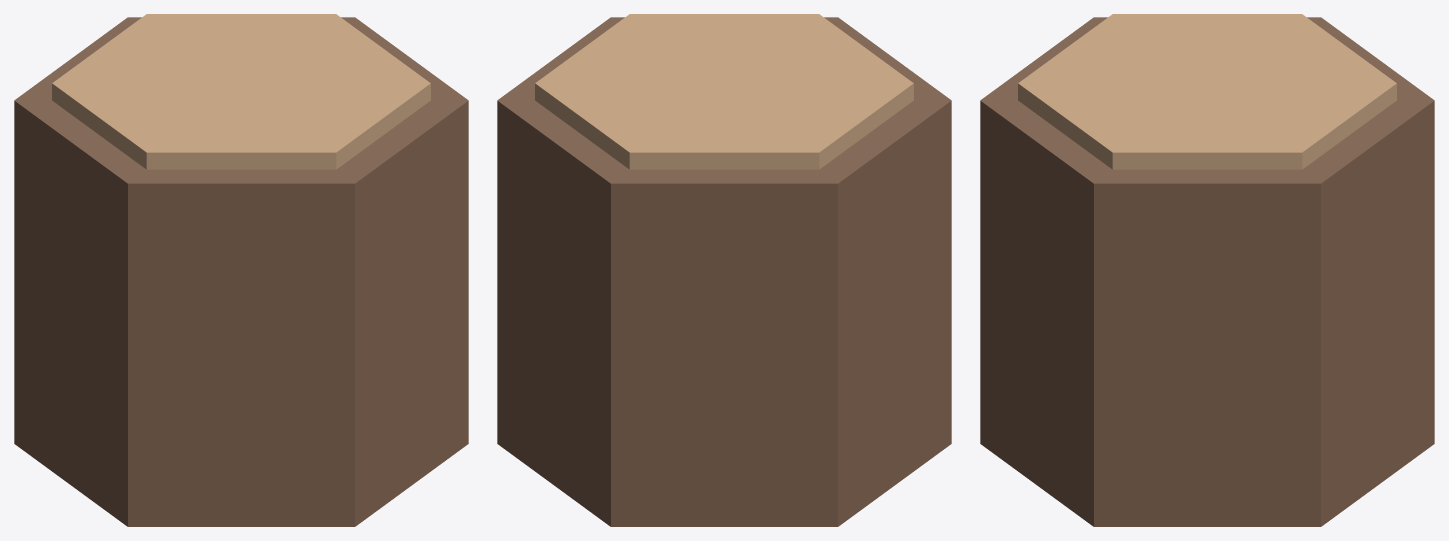
File: stump.glb
3 renders of one model, left to right at view 1: azimuth 30°, elevation 25°; view 2: azimuth 150°, elevation 25°; view 3: azimuth 270°, elevation 25°, orthographic.
Visible parts, largest first — view 1: detail_stump, detail_rings; view 2: detail_stump, detail_rings; view 3: detail_stump, detail_rings.
Part boxes in pixels (x1,y1,x2,y2): detail_stump: [14, 17, 468, 526]; detail_rings: [52, 14, 430, 169]; detail_stump: [497, 17, 951, 526]; detail_rings: [535, 14, 913, 169]; detail_stump: [980, 17, 1434, 526]; detail_rings: [1018, 14, 1396, 169].
Bounding box in the file's own units: 0.2078 × 0.21 × 0.24.
